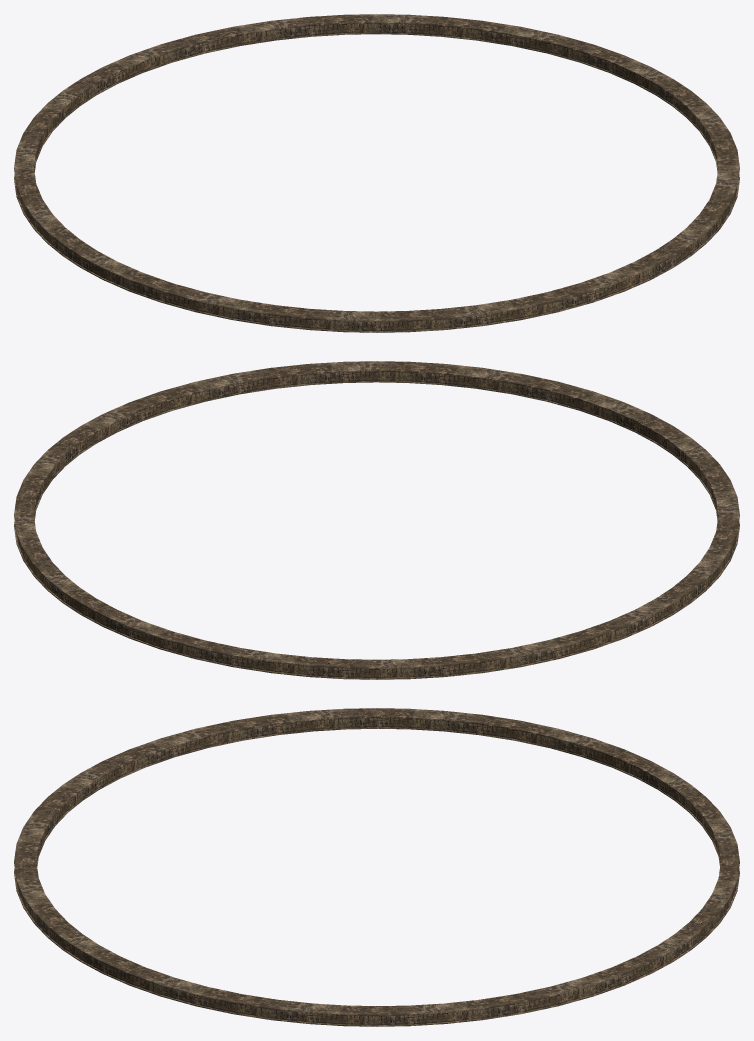
File: materials_5_stonestick_circle_1.fbx
3 renders of one model, top to bottom at view 1: azimuth 30°, elevation 25°; view 2: azimuth 150°, elevation 25°; view 3: azimuth 270°, elevation 25°, orthographic.
Visible parts, largest first — view 1: materials_5_stonestick_circle_1; view 2: materials_5_stonestick_circle_1; view 3: materials_5_stonestick_circle_1.
Part boxes in pixels (left/top/right/bottom): materials_5_stonestick_circle_1: left=14, top=14, right=739, bottom=332; materials_5_stonestick_circle_1: left=14, top=361, right=739, bottom=679; materials_5_stonestick_circle_1: left=14, top=708, right=739, bottom=1026.
Bounding box in the file's own units: 1098 × 19.85 × 1098.
